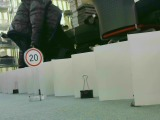speed_20: (23, 47, 43, 67)
